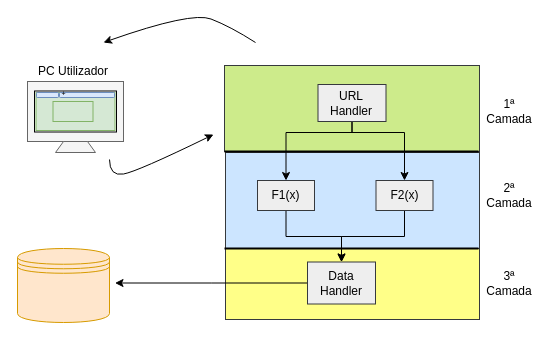
This 549x341 diagram has some shape labels left out. The centre of each missing label's shape, as x and y in pixels:
"Base de Dados" belongs at point 63,285.
"CCC" belongs at point 72,111.
